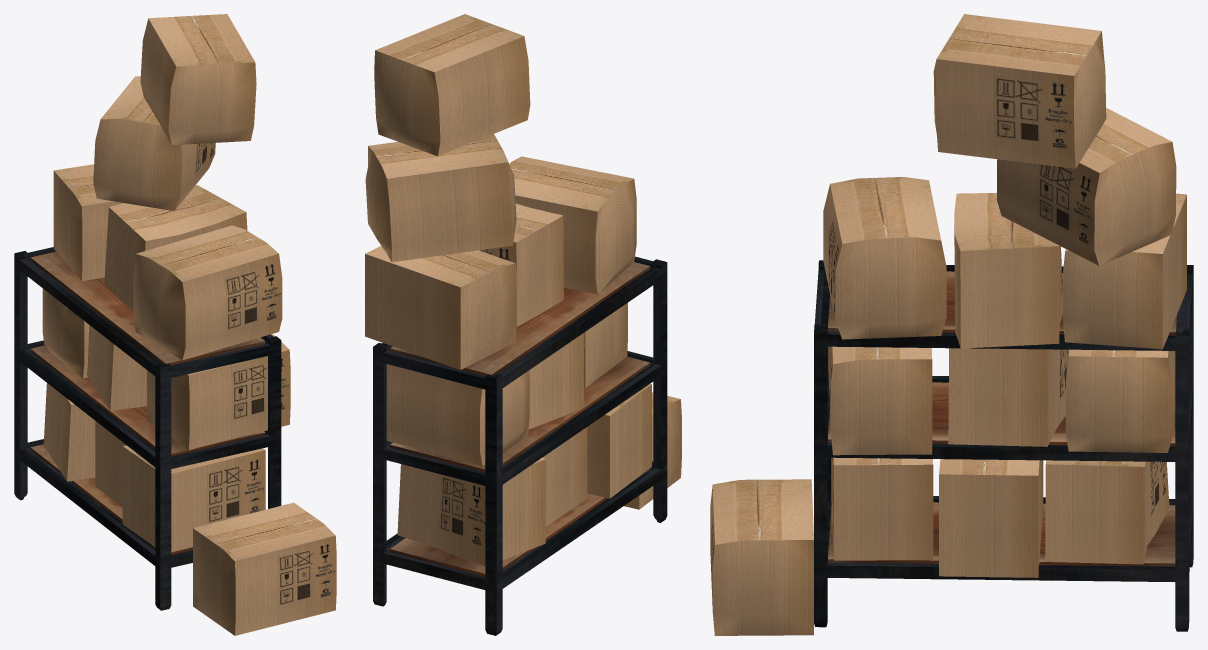
The model's file is obj_storageShelves.fbx.
3 views of the same model, side by side, from view 1: azimuth 30°, elevation 25°; view 2: azimuth 150°, elevation 25°; view 3: azimuth 270°, elevation 25° (orthographic). The views are drawn at different scales.
Visible parts, largest first — view 1: pCube59; view 2: pCube59; view 3: pCube59.
Part boxes in pixels (x1,y1,x2,y2): pCube59: [14, 14, 336, 635]; pCube59: [365, 14, 681, 635]; pCube59: [710, 14, 1193, 635].
Bounding box in the file's own units: 2.86 × 7.64 × 5.69.
